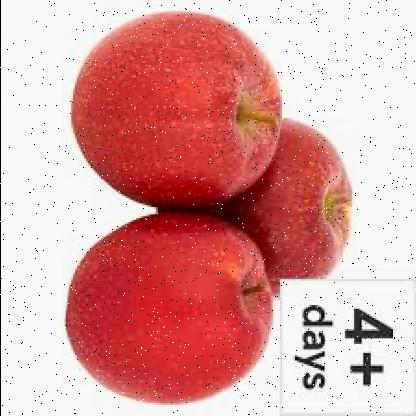apple: (65, 212, 279, 413), (72, 17, 272, 207), (230, 118, 367, 292)
